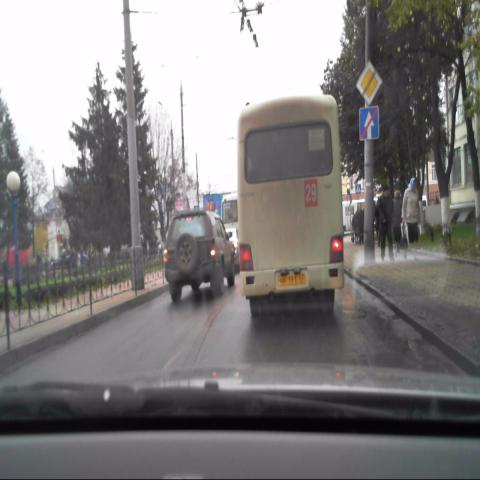2_2: (355, 62, 381, 105)
